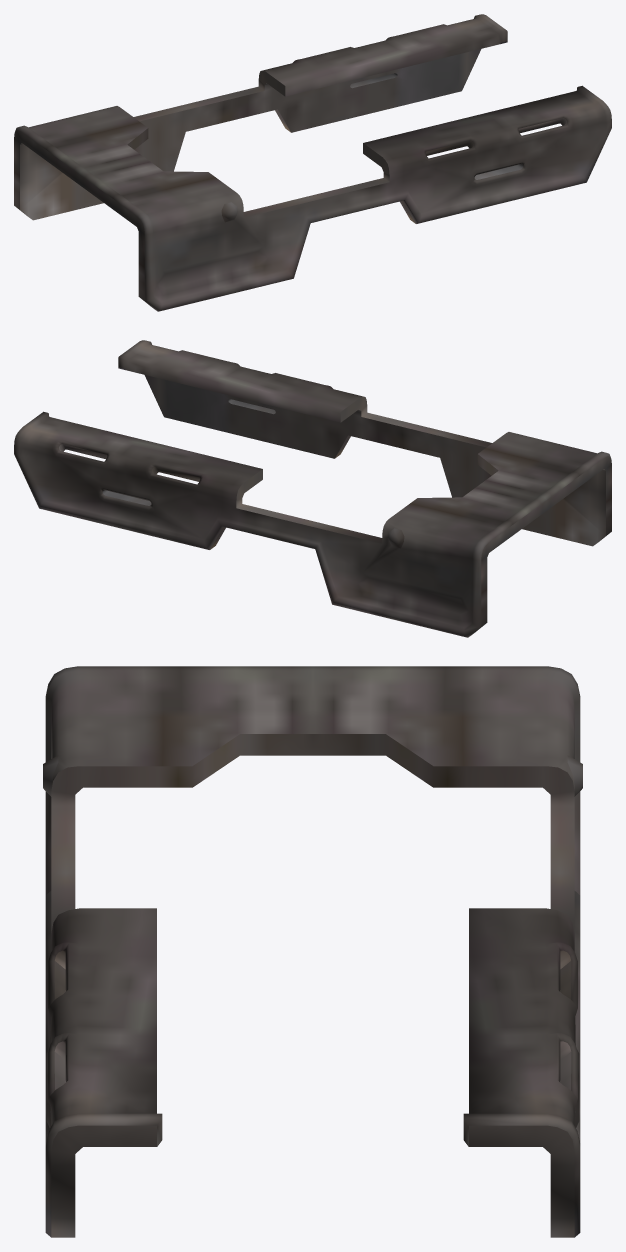
Rendered from HeavyWeapons_Vladof_Body_Acc_1.obj.
3 renders of one model, top to bottom at view 1: azimuth 30°, elevation 25°; view 2: azimuth 150°, elevation 25°; view 3: azimuth 270°, elevation 25°, orthographic. The views are drawn at different scales.
Parts seen in each view (by area): view 1: Body_acc_1_SK_HW_VLA.018; view 2: Body_acc_1_SK_HW_VLA.018; view 3: Body_acc_1_SK_HW_VLA.018.
Part boxes in pixels (x1=…): Body_acc_1_SK_HW_VLA.018: x1=14, y1=14, x2=611, y2=311; Body_acc_1_SK_HW_VLA.018: x1=14, y1=340, x2=611, y2=637; Body_acc_1_SK_HW_VLA.018: x1=43, y1=666, x2=582, y2=1237.
Bounding box in the file's own units: 20.9 × 4.09 × 10.45.
